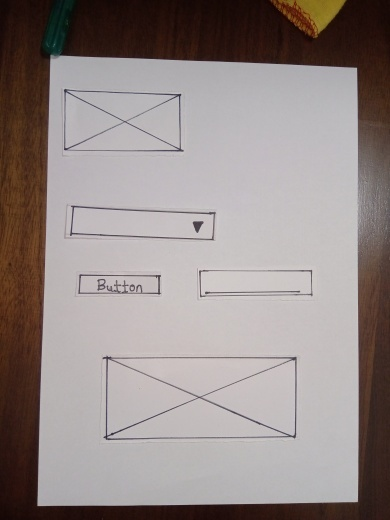button: (77, 274, 162, 297)
dropdown: (65, 211, 215, 238)
img: (102, 356, 296, 443), (64, 90, 183, 154)
text: (196, 267, 317, 299)
